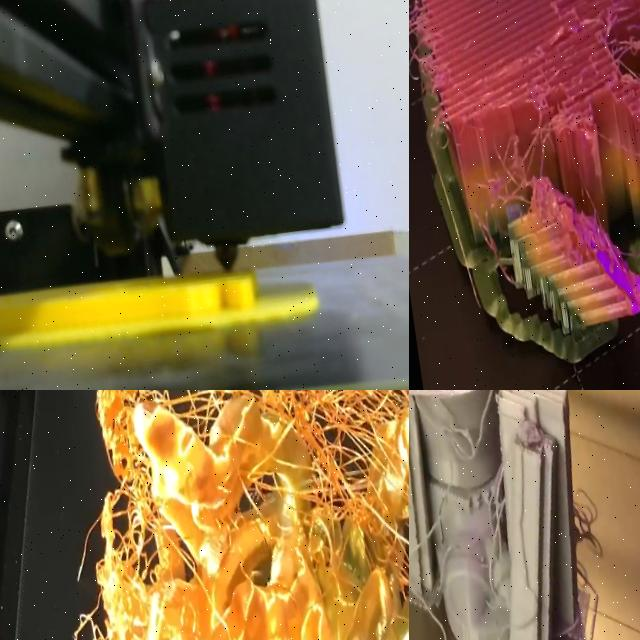spaghetti: (0, 390, 409, 640), (409, 390, 604, 640), (463, 126, 628, 298), (499, 0, 640, 146), (409, 0, 458, 131), (568, 478, 630, 574)
